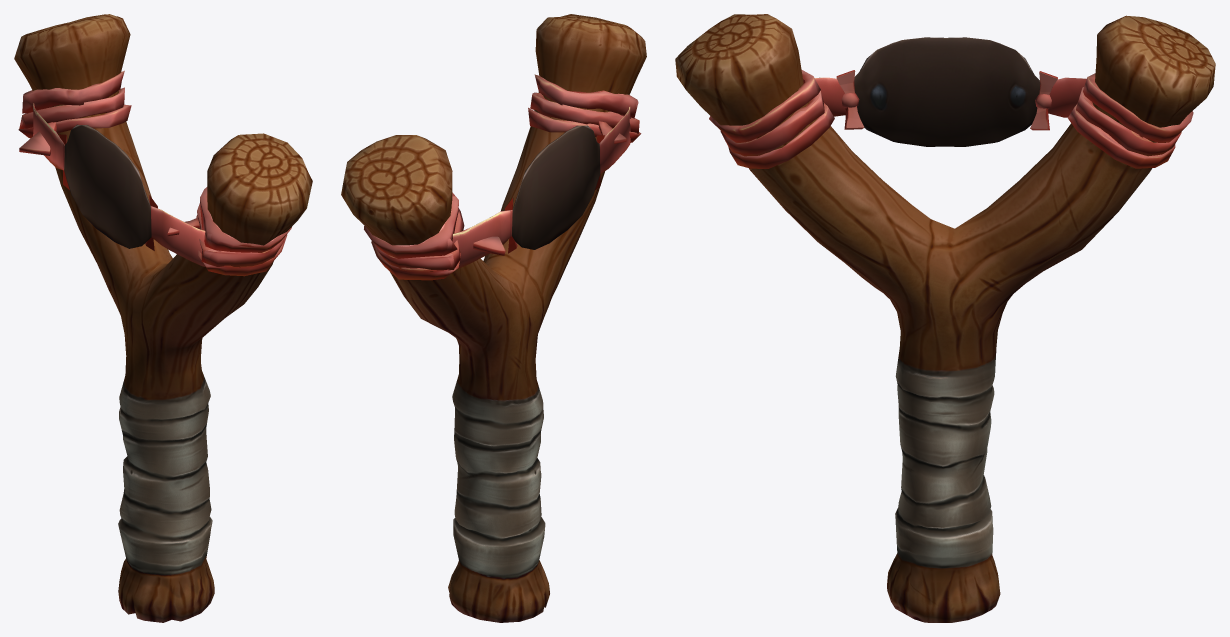
The model's file is resortera_blend_estirando.fbx.
The picture shows the model from 3 angles, left to right: view 1: azimuth 30°, elevation 25°; view 2: azimuth 150°, elevation 25°; view 3: azimuth 270°, elevation 25°; orthographic projection. The views are drawn at different scales.
Visible parts, largest first — view 1: Base_Resortera_Low, Sphere003, Tiras4_Low; view 2: Base_Resortera_Low, Sphere003, Tiras4_Low; view 3: Base_Resortera_Low, Sphere003, Tiras4_Low.
Part boxes in pixels (x1=…): Base_Resortera_Low: x1=14, y1=14, x2=312, y2=622; Sphere003: x1=33, y1=103, x2=221, y2=266; Tiras4_Low: x1=18, y1=70, x2=291, y2=276; Base_Resortera_Low: x1=341, y1=14, x2=646, y2=622; Sphere003: x1=452, y1=107, x2=630, y2=268; Tiras4_Low: x1=364, y1=74, x2=641, y2=280; Base_Resortera_Low: x1=675, y1=14, x2=1215, y2=622; Sphere003: x1=814, y1=37, x2=1086, y2=146; Tiras4_Low: x1=709, y1=70, x2=1193, y2=168.
Bounding box in the file's own units: 6.82 × 25.48 × 21.36.
1 material, 1 textured.
